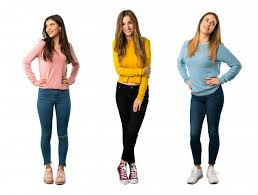person: (110, 11, 156, 75), (179, 9, 227, 67), (31, 13, 76, 73)
